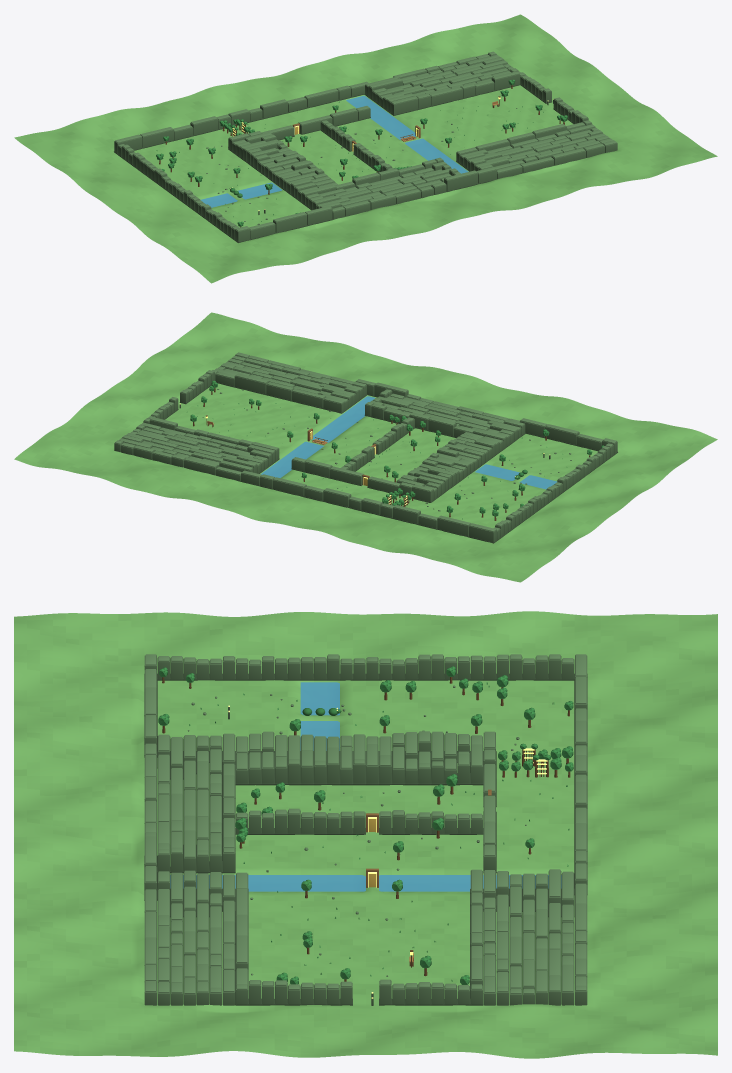
File: valley.glb
3 renders of one model, top to bottom at view 1: azimuth 30°, elevation 25°; view 2: azimuth 150°, elevation 25°; view 3: azimuth 270°, elevation 25°, orthographic. The views are drawn at different scales.
Visible parts, largest first — view 1: ground, walls, water, trees, props; view 2: ground, walls, water, trees, props; view 3: ground, walls, water, trees, props.
Part boxes in pixels (x1,y1,x2,y2): ground: (14,14,717,283); walls: (114,51,617,242); water: (200,95,468,207); trees: (156,79,567,227); props: (156,91,553,224); ground: (14,312,717,582); walls: (114,352,617,543); water: (261,396,556,489); trees: (190,380,603,520); props: (179,389,571,519); ground: (14,611,717,1058); walls: (144,654,587,1005); water: (170,682,561,891); trees: (158,666,573,984); props: (188,682,569,1005).
Bounding box in the file's own units: 80 × 2.38 × 54.
